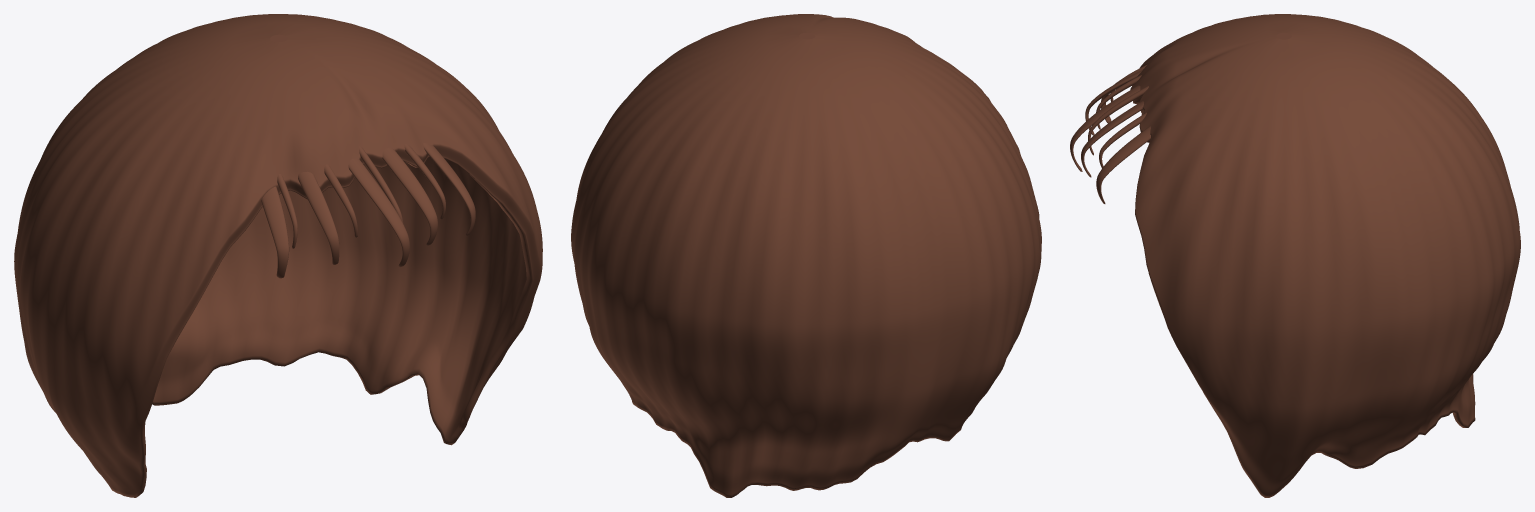
The model's file is side-sweep-pashmina.glb.
The picture shows the model from 3 angles, left to right: view 1: azimuth 30°, elevation 25°; view 2: azimuth 150°, elevation 25°; view 3: azimuth 270°, elevation 25°; orthographic projection. The views are drawn at different scales.
Parts seen in each view (by area): view 1: Hair / layered lob, Fringe / arched wisp 05, Fringe / arched wisp 07, Fringe / arched wisp 01, Fringe / arched wisp 03, Fringe / arched wisp 09; view 2: Hair / layered lob; view 3: Hair / layered lob, Fringe / arched wisp 09, Fringe / arched wisp 07, Fringe / arched wisp 05.
Boxes of the visible parts, x1=… form: Hair / layered lob: x1=14, y1=14, x2=542, y2=497; Fringe / arched wisp 05: x1=348, y1=158, x2=409, y2=267; Fringe / arched wisp 07: x1=382, y1=148, x2=437, y2=245; Fringe / arched wisp 01: x1=261, y1=186, x2=289, y2=278; Fringe / arched wisp 03: x1=298, y1=171, x2=339, y2=264; Fringe / arched wisp 09: x1=423, y1=143, x2=475, y2=236; Hair / layered lob: x1=571, y1=14, x2=1041, y2=497; Hair / layered lob: x1=1130, y1=14, x2=1520, y2=497; Fringe / arched wisp 09: x1=1096, y1=126, x2=1150, y2=203; Fringe / arched wisp 07: x1=1081, y1=101, x2=1143, y2=177; Fringe / arched wisp 05: x1=1070, y1=85, x2=1140, y2=171.
Size of the model in its own units: 0.8384 by 0.7657 by 0.7984.
